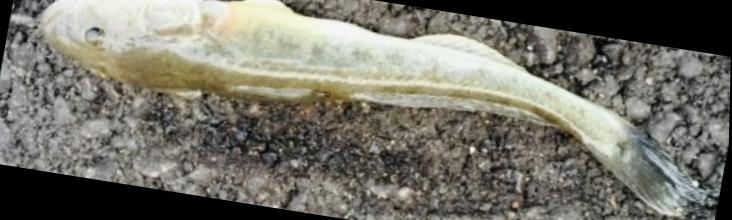fish: (39, 0, 704, 217)
